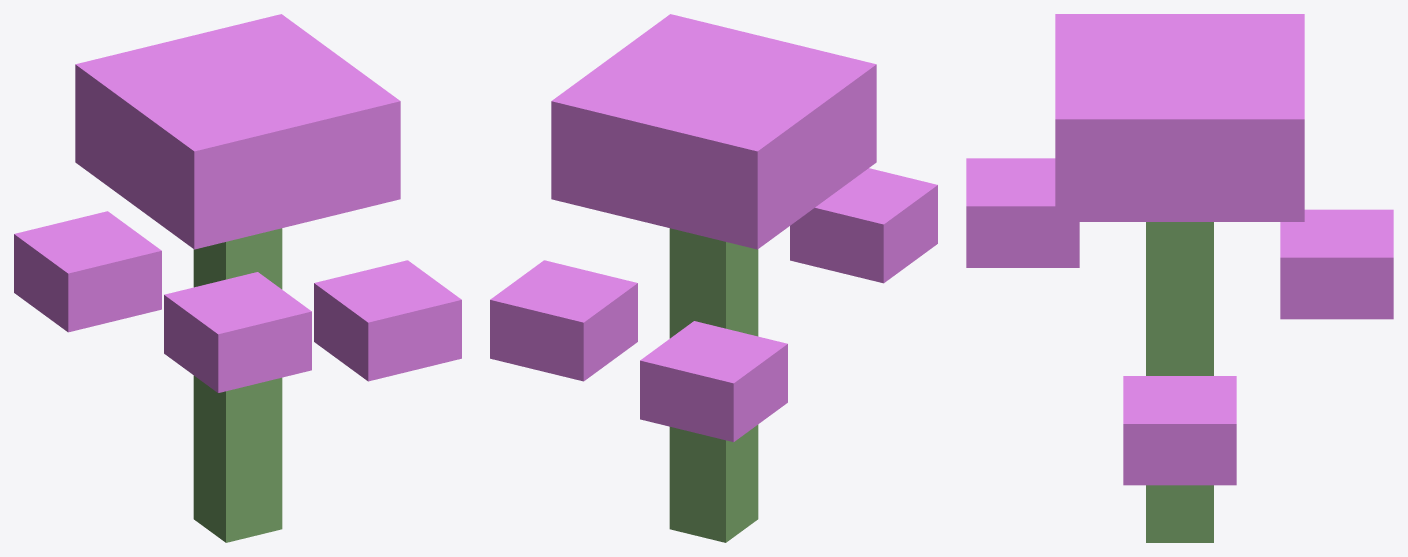
Rendered from Prop_DS_Herb_SwapRoot_S2_V1.glb.
The picture shows the model from 3 angles, left to right: view 1: azimuth 30°, elevation 25°; view 2: azimuth 150°, elevation 25°; view 3: azimuth 270°, elevation 25°; orthographic projection. The views are drawn at different scales.
Visible parts, largest first — view 1: Prop_DS_Herb_SwapRoot_S2_V1; view 2: Prop_DS_Herb_SwapRoot_S2_V1; view 3: Prop_DS_Herb_SwapRoot_S2_V1.
Part boxes in pixels (box(x1,y1,x2,y2)): Prop_DS_Herb_SwapRoot_S2_V1: box(14, 14, 461, 542); Prop_DS_Herb_SwapRoot_S2_V1: box(490, 14, 937, 542); Prop_DS_Herb_SwapRoot_S2_V1: box(966, 14, 1393, 542).
Size of the model in its own units: 0.34 by 0.45 by 0.3771.
